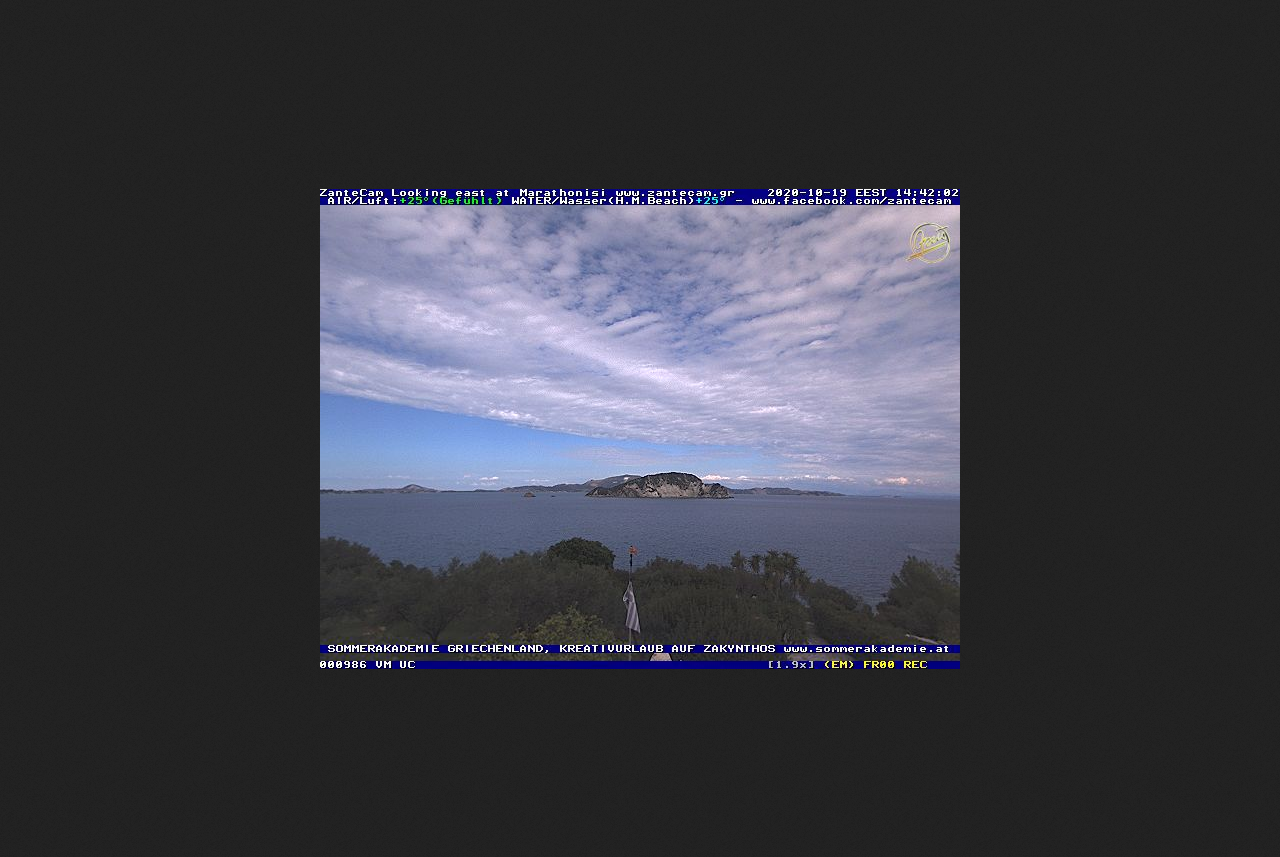no: (620, 572, 647, 634)
